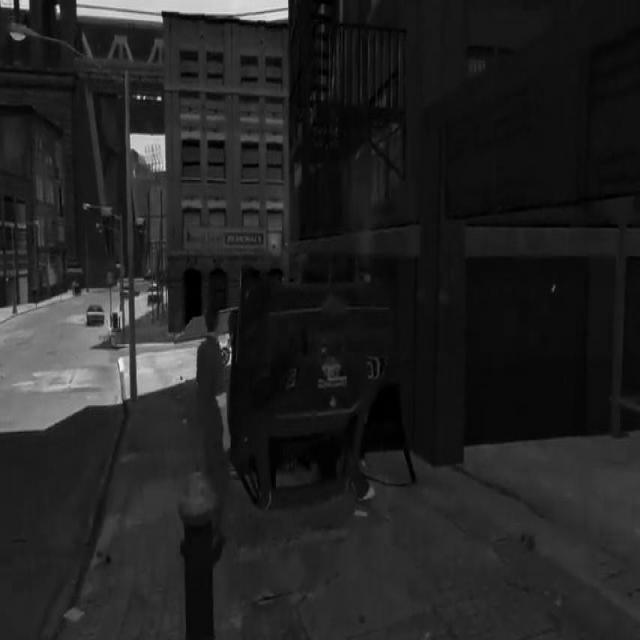accident: (222, 263, 411, 530)
vehicle: (85, 300, 105, 328), (148, 281, 164, 307)
